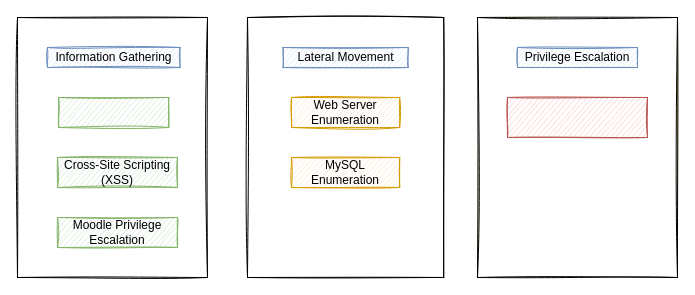
The diagram is 695 pixels wide and 295 high, and some of its shapes have lost their labels. Here are the shapes that lost their labels. From the top down, the box of each, then its label:
(58, 96, 169, 128): Subdomain Enumeration
(506, 96, 648, 138): FreeBSD pkg Exploitation
